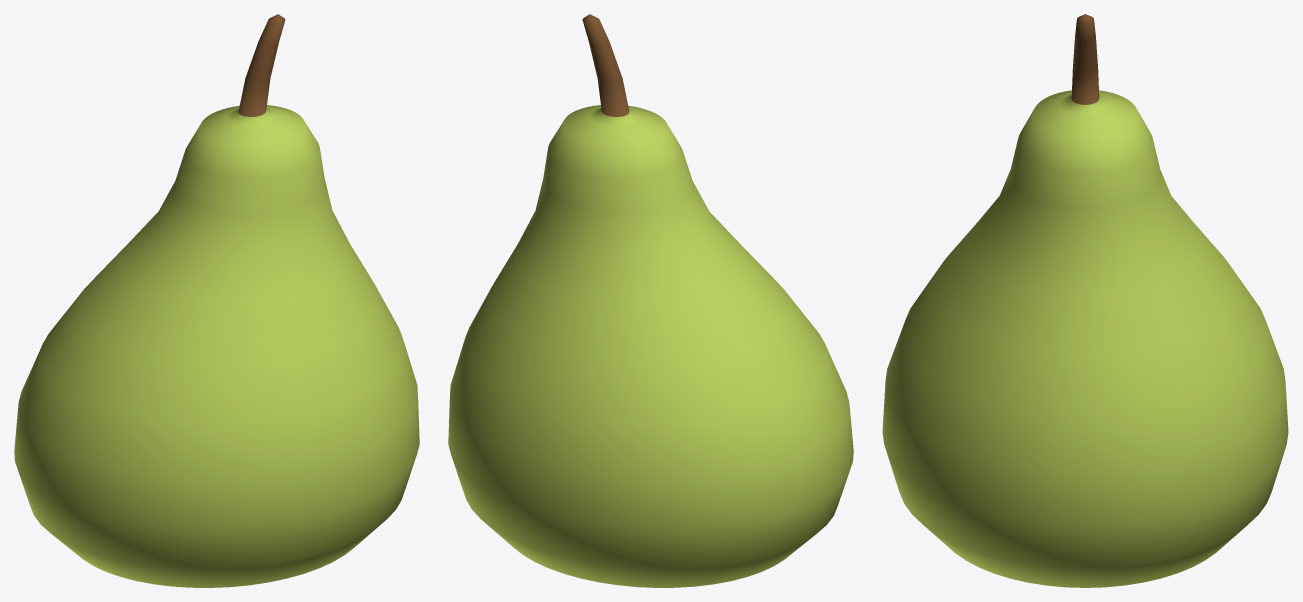
The model's file is NEW_RECOVERY_013_LOD0.fbx.
3 renders of one model, left to right at view 1: azimuth 30°, elevation 25°; view 2: azimuth 150°, elevation 25°; view 3: azimuth 270°, elevation 25°, orthographic. The views are drawn at different scales.
Visible parts, largest first — view 1: Whole pear with continuous stem; view 2: Whole pear with continuous stem; view 3: Whole pear with continuous stem.
Boxes of the visible parts, x1,y1,x2,y2 form: Whole pear with continuous stem: [14, 14, 419, 587]; Whole pear with continuous stem: [448, 14, 853, 587]; Whole pear with continuous stem: [882, 14, 1288, 587].
Bounding box in the file's own units: 132 × 120 × 185.
